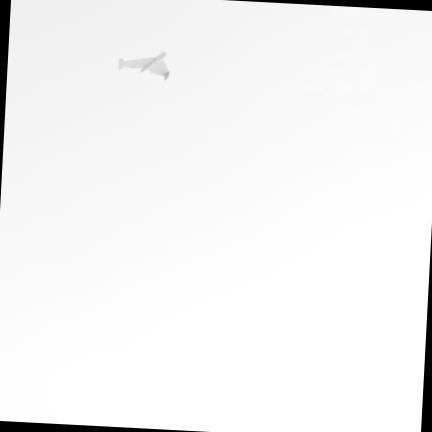Shahed: (119, 53, 169, 80)
